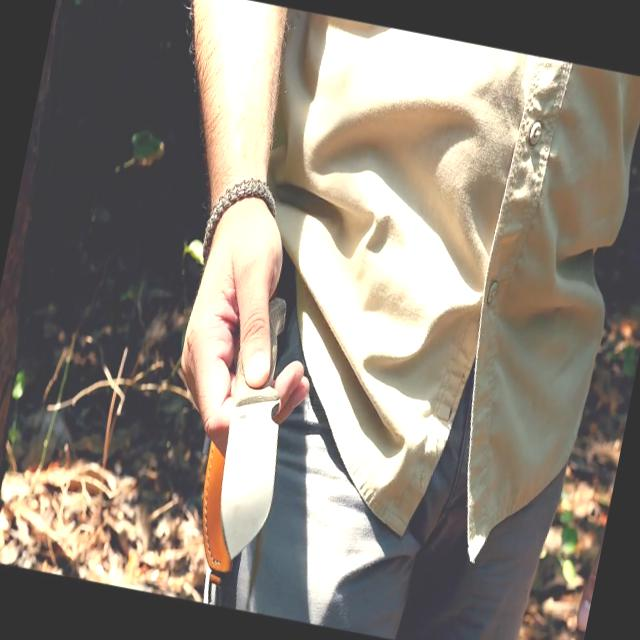knife: (144, 268, 330, 580)
